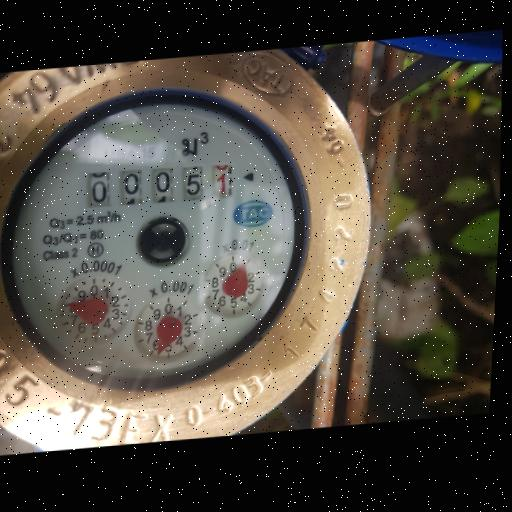0: (149, 165, 175, 205), (86, 169, 112, 207), (118, 167, 143, 206)
1: (211, 163, 233, 199)
5: (182, 163, 204, 202)
border_water_meter_number: (81, 157, 239, 214)
